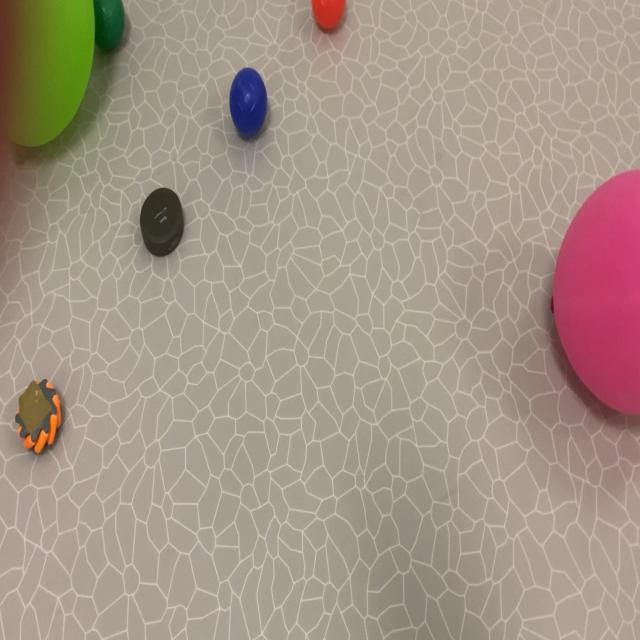7: (289, 0, 365, 80)
blue ball: (194, 0, 358, 159)
green ball: (225, 30, 272, 181)
red ball: (98, 0, 136, 90)
